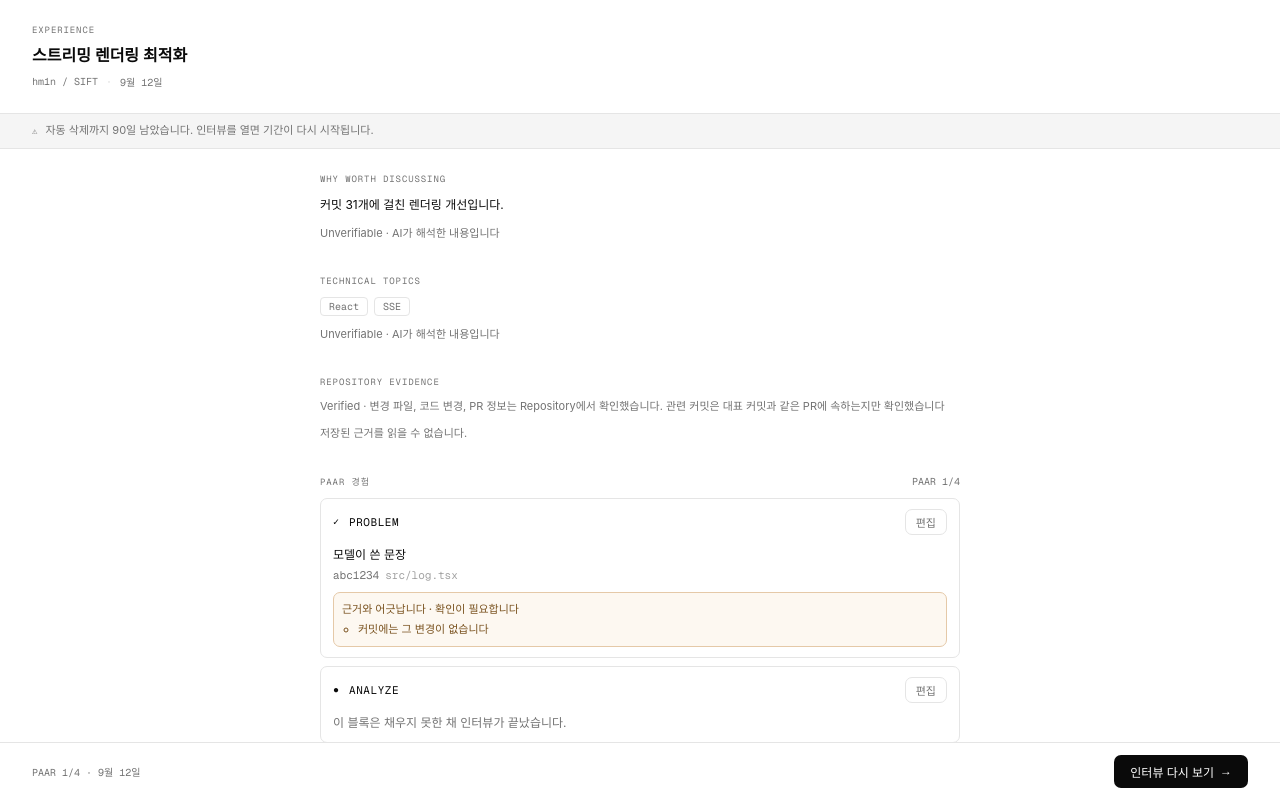
Test: SavedInterviewScreen 블록 편집 › 고친 블록에는 예전 충돌을 남기지 않는다
Expected: the text "근거와 어긋납니다 · 확인이 필요합니다" is shown, [342,602,519,616]
Click the button with aria-label "Problem 편집": (926, 522) [905,509,947,535]
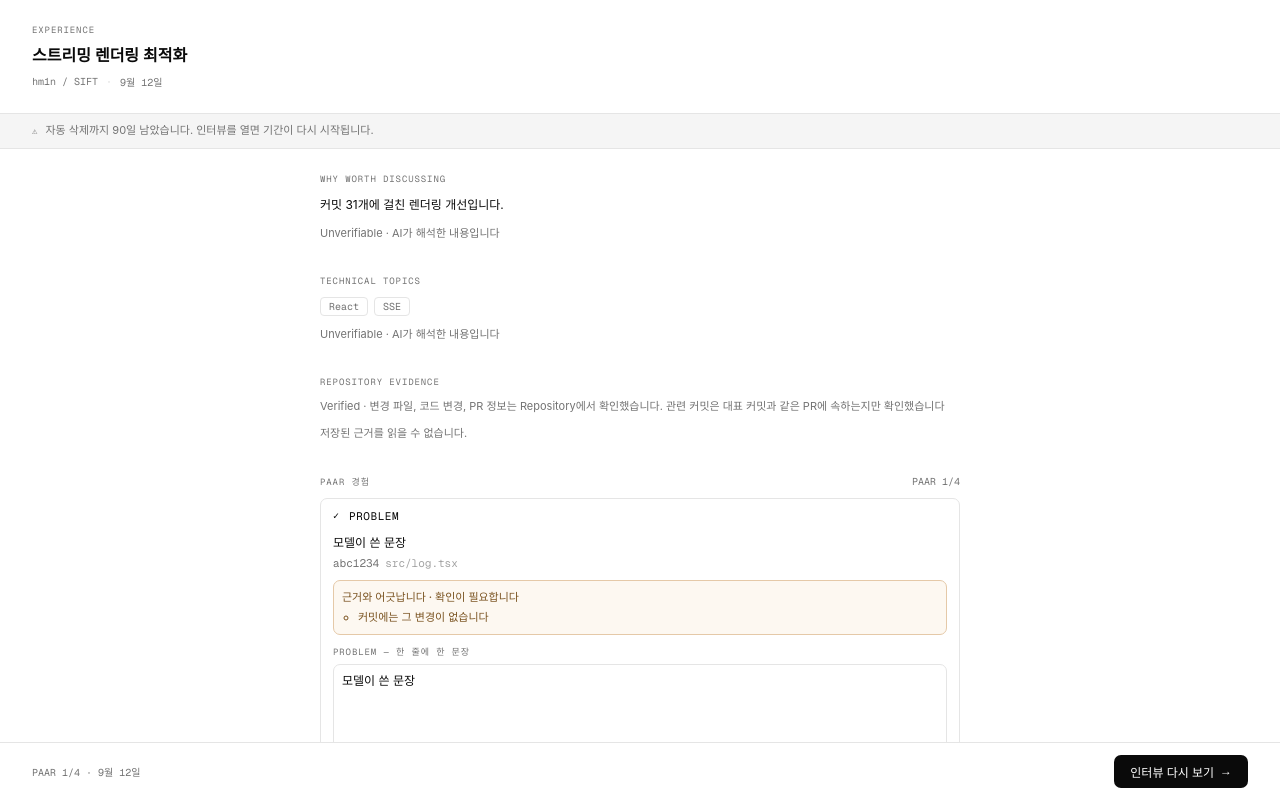
Replace the text in the text box with "사용자가 고친 문장": (640, 709) [333,664,947,755]
(page scrolled)
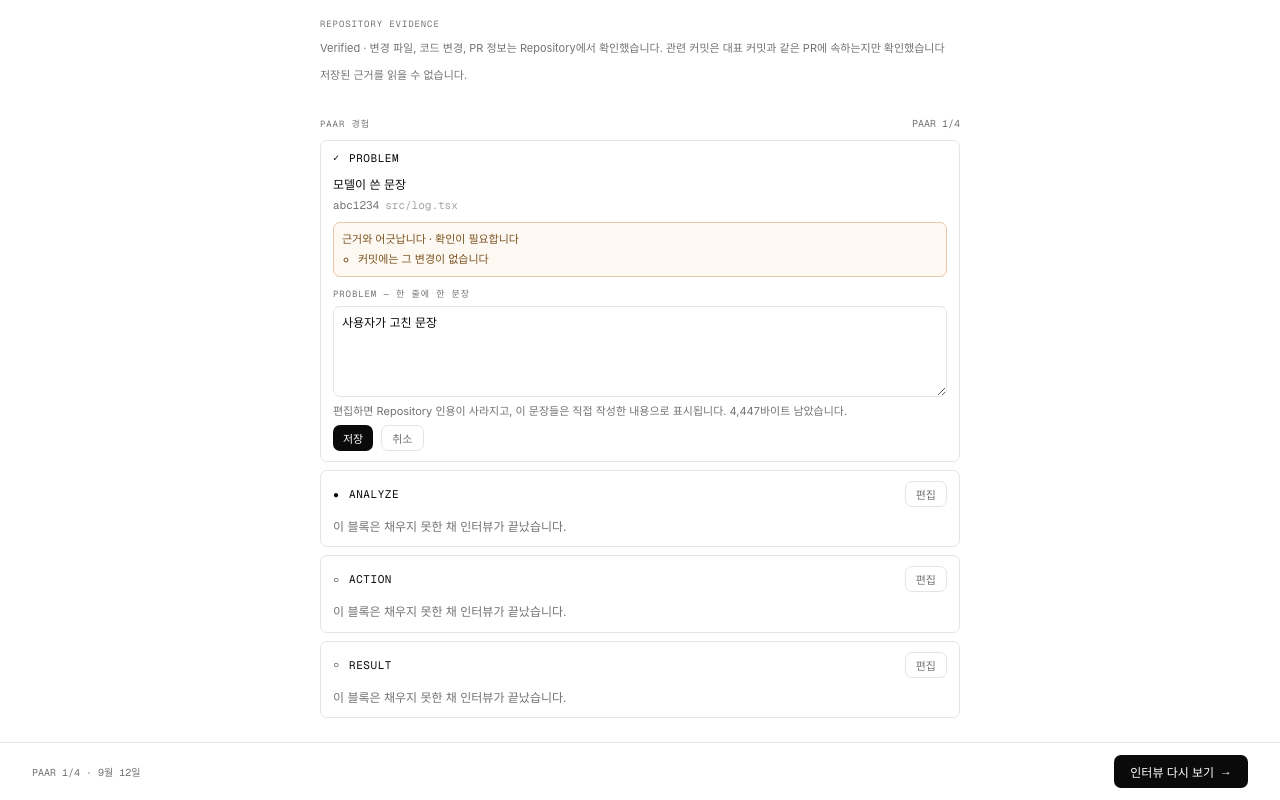
Click the button "저장": (353, 438) [333,425,373,451]
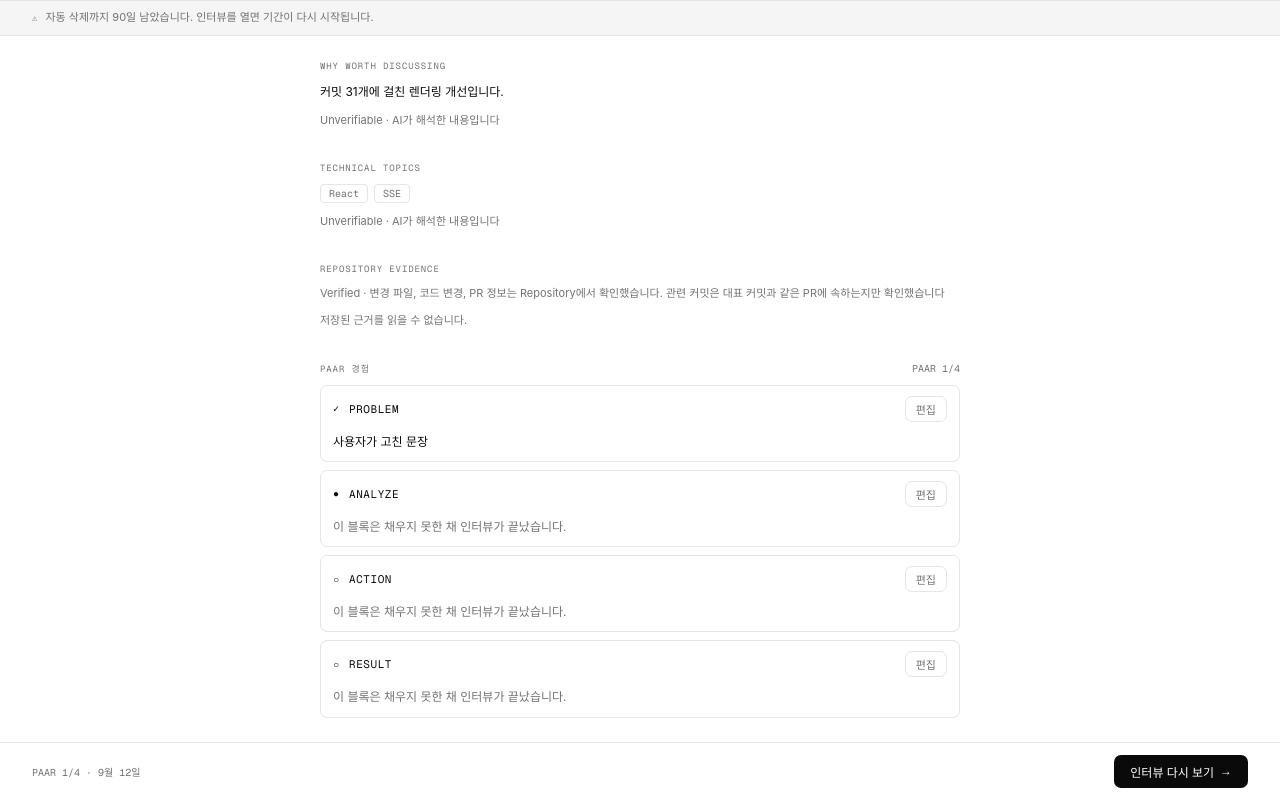
Expected: the text "사용자가 고친 문장" is shown, [333,434,428,449]
Expected: the text "근거와 어긋납니다 · 확인이 필요합니다" is gone
Expected: the list item "커밋에는 그 변경이 없습니다" is gone
